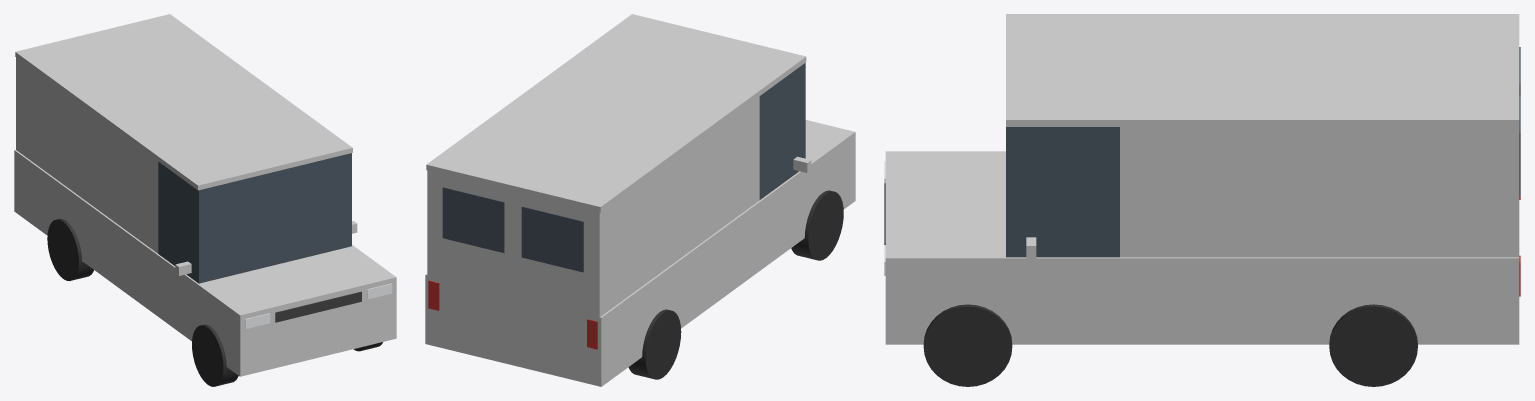
File: placeholder-van.glb
The picture shows the model from 3 angles, left to right: view 1: azimuth 30°, elevation 25°; view 2: azimuth 150°, elevation 25°; view 3: azimuth 270°, elevation 25°; orthographic projection. The views are drawn at different scales.
Parts seen in each view (by area): view 1: teto, lataria, vidros, bau, roda_tras_d, roda_diant_d, grade; view 2: teto, lataria, bau, vidros, vidro_tras_d, vidro_tras_e, roda_diant_d, roda_tras_d; view 3: lataria, teto, bau, vidros, roda_diant_e, roda_tras_e.
Boxes of the visible parts, bbox=[...] form: teto: bbox=[15, 14, 352, 190]; lataria: bbox=[14, 150, 396, 376]; vidros: bbox=[158, 153, 351, 283]; bau: bbox=[16, 57, 158, 253]; roda_tras_d: bbox=[47, 218, 93, 281]; roda_diant_d: bbox=[192, 324, 238, 386]; grade: bbox=[275, 291, 361, 322]; teto: bbox=[426, 14, 806, 212]; lataria: bbox=[425, 120, 855, 386]; bau: bbox=[427, 96, 759, 317]; vidros: bbox=[759, 63, 805, 199]; vidro_tras_d: bbox=[521, 206, 583, 272]; vidro_tras_e: bbox=[442, 187, 504, 252]; roda_diant_d: bbox=[791, 190, 843, 260]; roda_tras_d: bbox=[628, 309, 681, 379]; lataria: bbox=[885, 151, 1519, 344]; teto: bbox=[1006, 14, 1519, 126]; bau: bbox=[1120, 127, 1519, 257]; vidros: bbox=[1006, 127, 1119, 257]; roda_diant_e: bbox=[923, 304, 1012, 386]; roda_tras_e: bbox=[1329, 304, 1417, 386].
Bounding box in the file's own units: 2.28 × 2.3 × 5.02.
